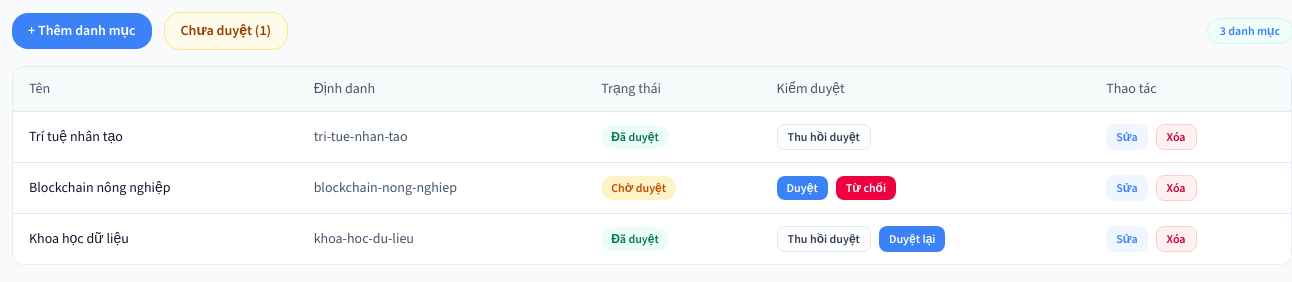
AdminCategoriesQuickActions pending filter › shows all categories by default and only pending ones after clicking Chưa duyệt
The width and height of the screenshot is (1292, 282).
Expected: the text "Trí tuệ nhân tạo" is shown, x1=13 y1=112 x2=298 y2=162
Expected: the text "Blockchain nông nghiệp" is shown, x1=13 y1=162 x2=298 y2=214
Click the button "Chưa duyệt (1)" at (226, 31), box x1=164 y1=12 x2=288 y2=50
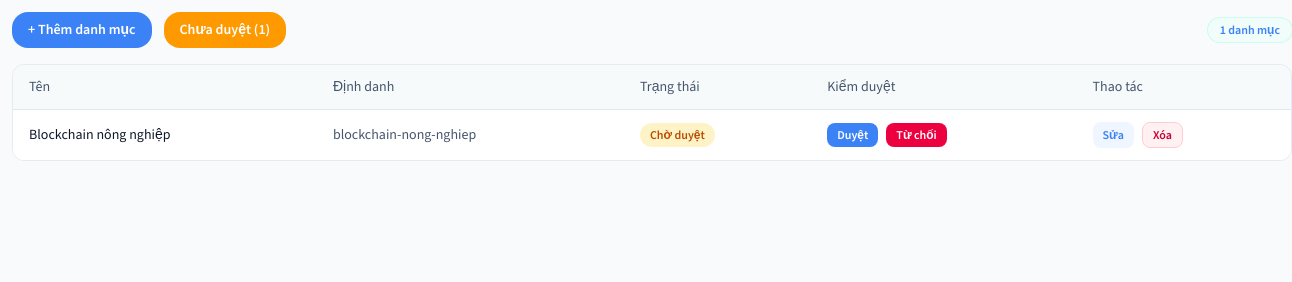
Result: the text "Trí tuệ nhân tạo" is gone
Result: the text "Khoa học dữ liệu" is gone
Result: the text "1 danh mục" is shown at x1=1208 y1=18 x2=1291 y2=42
